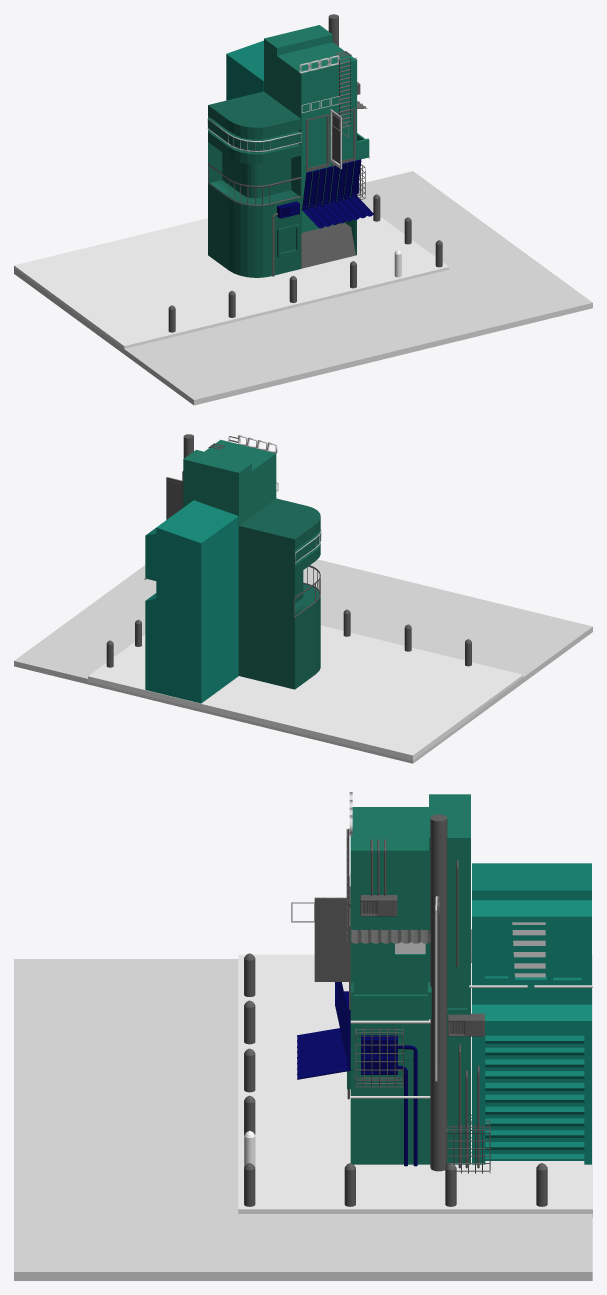
The picture shows the model from 3 angles, top to bottom: view 1: azimuth 30°, elevation 25°; view 2: azimuth 150°, elevation 25°; view 3: azimuth 270°, elevation 25°; orthographic projection. The views are drawn at different scales.
Parts seen in each view (by area): view 1: Cube, Cube.004, Cube.002, Cube.001, Cube.013, Cube.003, Plane, Cube.014; view 2: Cube, Cube.004, Cube.003, Cube.002, Cube.001, Plane.012; view 3: Cube, Cube.003, Cube.004, Cube.001, Cylinder.038, Plane.011, Plane, Cube.011, Plane.013, Cube.010, Cube.012, Cube.015 (+3 smaller).
Part boxes in pixels (bbox=[...]): Cube: bbox=[14, 171, 592, 405]; Cube.004: bbox=[14, 208, 448, 349]; Cube.002: bbox=[208, 91, 300, 277]; Cube.001: bbox=[264, 25, 369, 268]; Cube.013: bbox=[301, 222, 355, 268]; Cube.003: bbox=[226, 40, 263, 100]; Plane: bbox=[302, 196, 373, 228]; Cube.014: bbox=[208, 163, 300, 206]; Cube: bbox=[14, 559, 592, 763]; Cube.004: bbox=[88, 625, 523, 760]; Cube.003: bbox=[145, 500, 238, 703]; Cube.002: bbox=[239, 498, 320, 689]; Cube.001: bbox=[183, 439, 276, 675]; Plane.012: bbox=[166, 477, 182, 519]; Cube: bbox=[14, 959, 592, 1280]; Cube.003: bbox=[472, 863, 591, 1164]; Cube.004: bbox=[238, 954, 592, 1217]; Cube.001: bbox=[350, 794, 470, 1164]; Cylinder.038: bbox=[430, 814, 447, 1171]; Plane.011: bbox=[314, 897, 348, 981]; Plane: bbox=[297, 1028, 413, 1079]; Cube.011: bbox=[355, 1028, 403, 1087]; Plane.013: bbox=[351, 929, 430, 943]; Cube.010: bbox=[446, 1114, 490, 1173]; Cube.012: bbox=[448, 1013, 484, 1036]; Cube.015: bbox=[360, 895, 397, 916].
Bounding box in the file's own units: 67.66 × 36.66 × 52.89.
